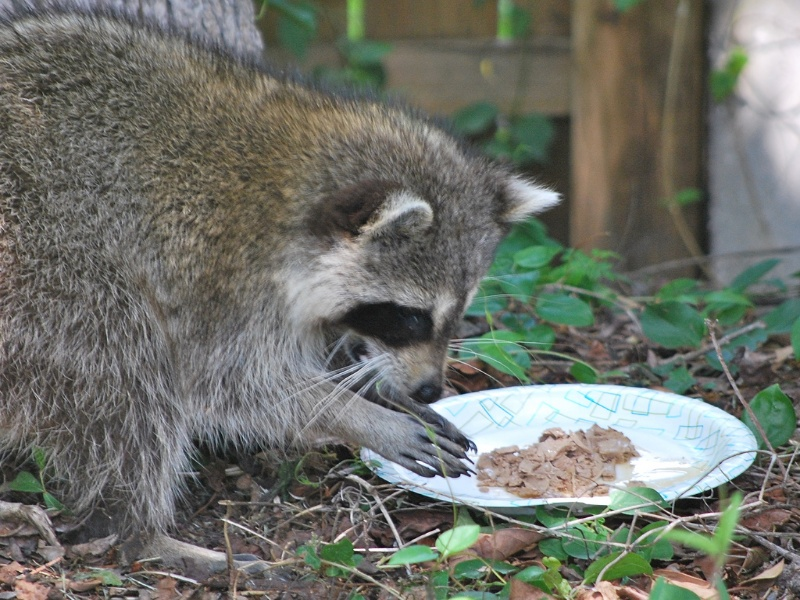raccoon: (1, 8, 572, 572)
